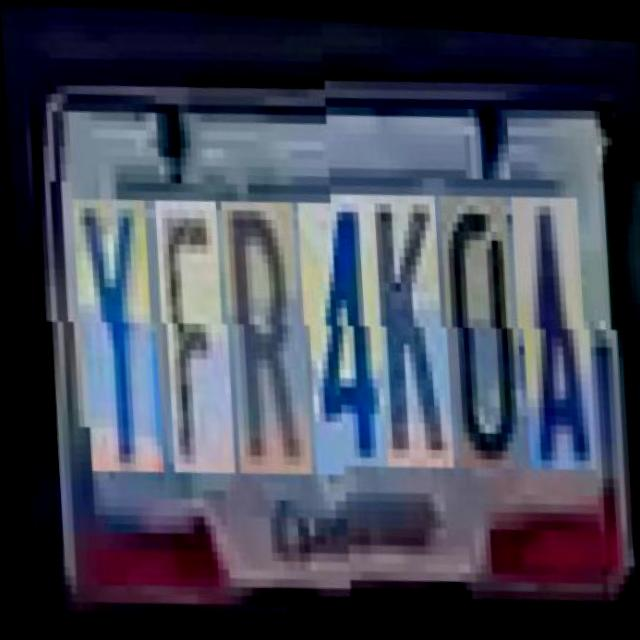0: (441, 201, 524, 479)
4: (298, 199, 387, 477)
a: (513, 201, 596, 479)
f: (155, 197, 233, 475)
k: (370, 200, 453, 478)
r: (220, 198, 310, 476)
y: (73, 196, 162, 474)
